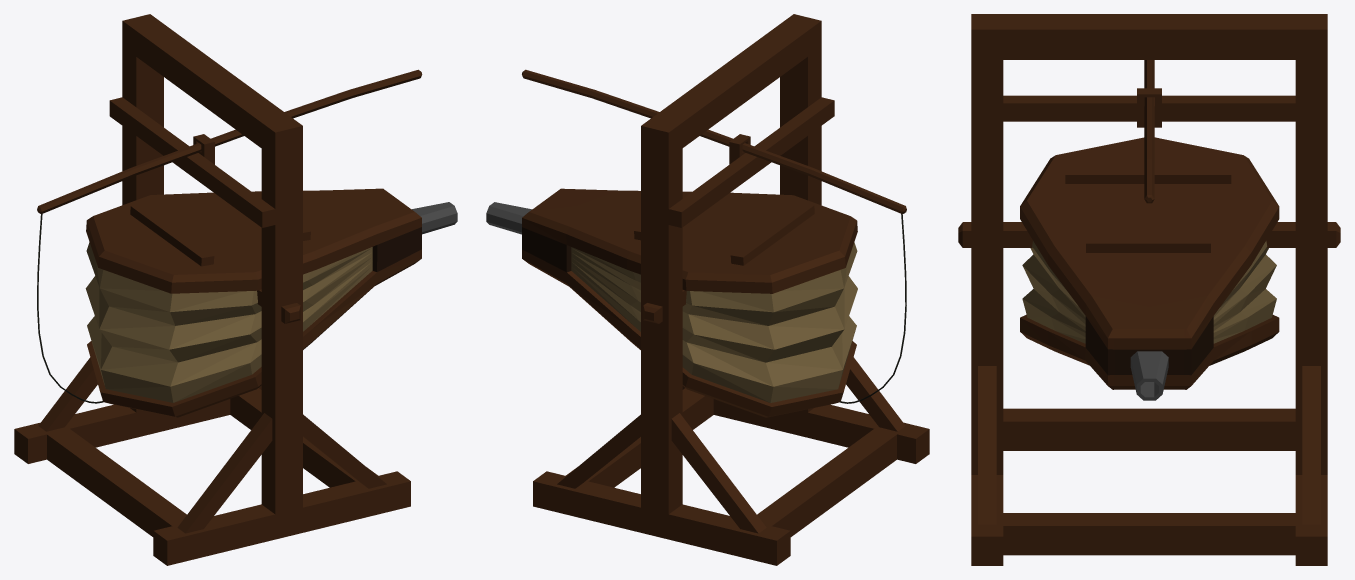
File: Bellows_FBX.fbx
3 views of the same model, side by side, from view 1: azimuth 30°, elevation 25°; view 2: azimuth 150°, elevation 25°; view 3: azimuth 270°, elevation 25° (orthographic). The views are drawn at different scales.
Visible parts, largest first — view 1: Bellows_Holder, Bellows, Bellows_Handle, Bellows_Top; view 2: Bellows_Holder, Bellows, Bellows_Handle, Bellows_Top; view 3: Bellows_Holder, Bellows, Bellows_Top, Bellows_Handle.
Part boxes in pixels (bbox=[...]): Bellows_Holder: bbox=[14, 14, 410, 565]; Bellows: bbox=[85, 188, 457, 417]; Bellows_Handle: bbox=[37, 69, 422, 214]; Bellows_Top: bbox=[130, 192, 310, 266]; Bellows_Holder: bbox=[533, 14, 929, 565]; Bellows: bbox=[486, 188, 857, 417]; Bellows_Handle: bbox=[522, 69, 906, 214]; Bellows_Top: bbox=[634, 191, 814, 265]; Bellows_Holder: bbox=[958, 14, 1340, 565]; Bellows: bbox=[1020, 137, 1279, 400]; Bellows_Top: bbox=[1065, 166, 1231, 252]; Bellows_Handle: bbox=[1144, 60, 1154, 203].
Bounding box in the file's own units: 192 × 180 × 131.
